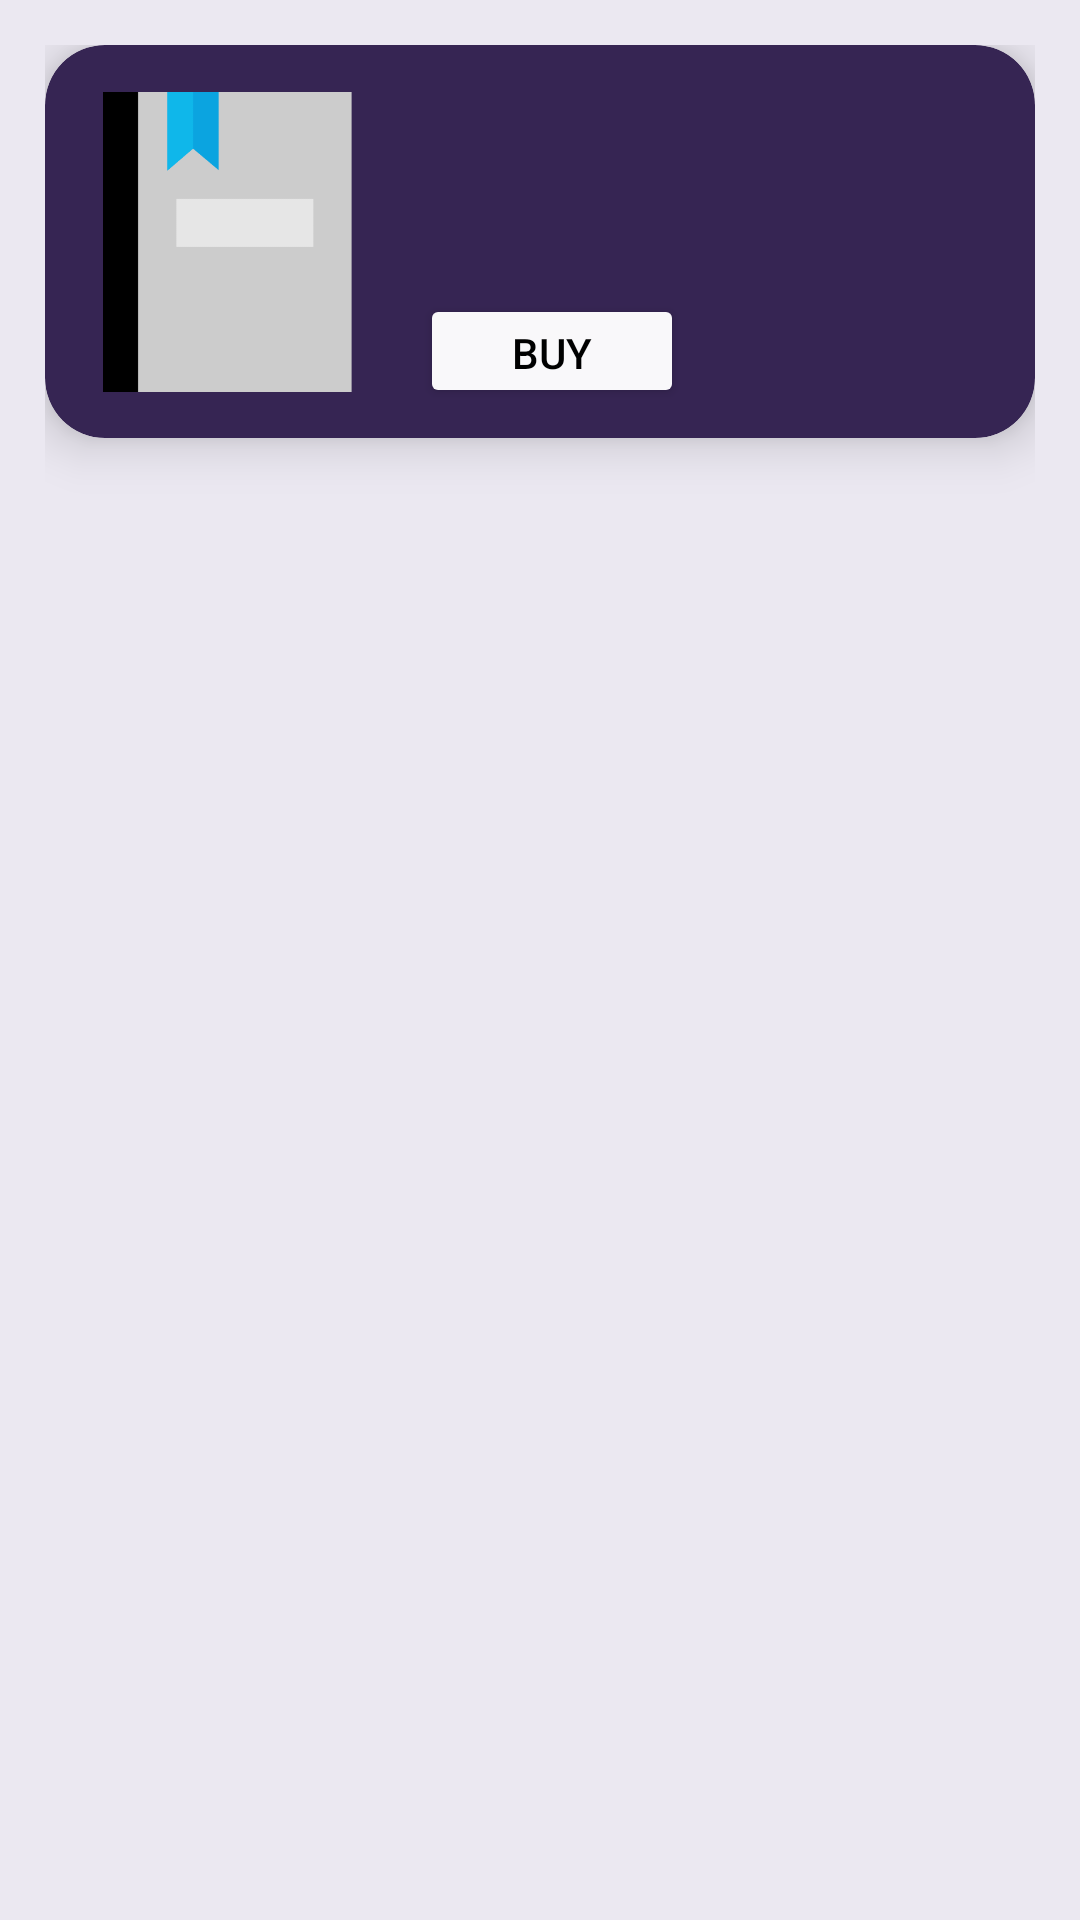

Screen size 1080px x 1920px. Icon name, then its box in pixels as [left=x1, top=y1, right=x2, bottom=y2]:
book: [left=103, top=92, right=352, bottom=392]
